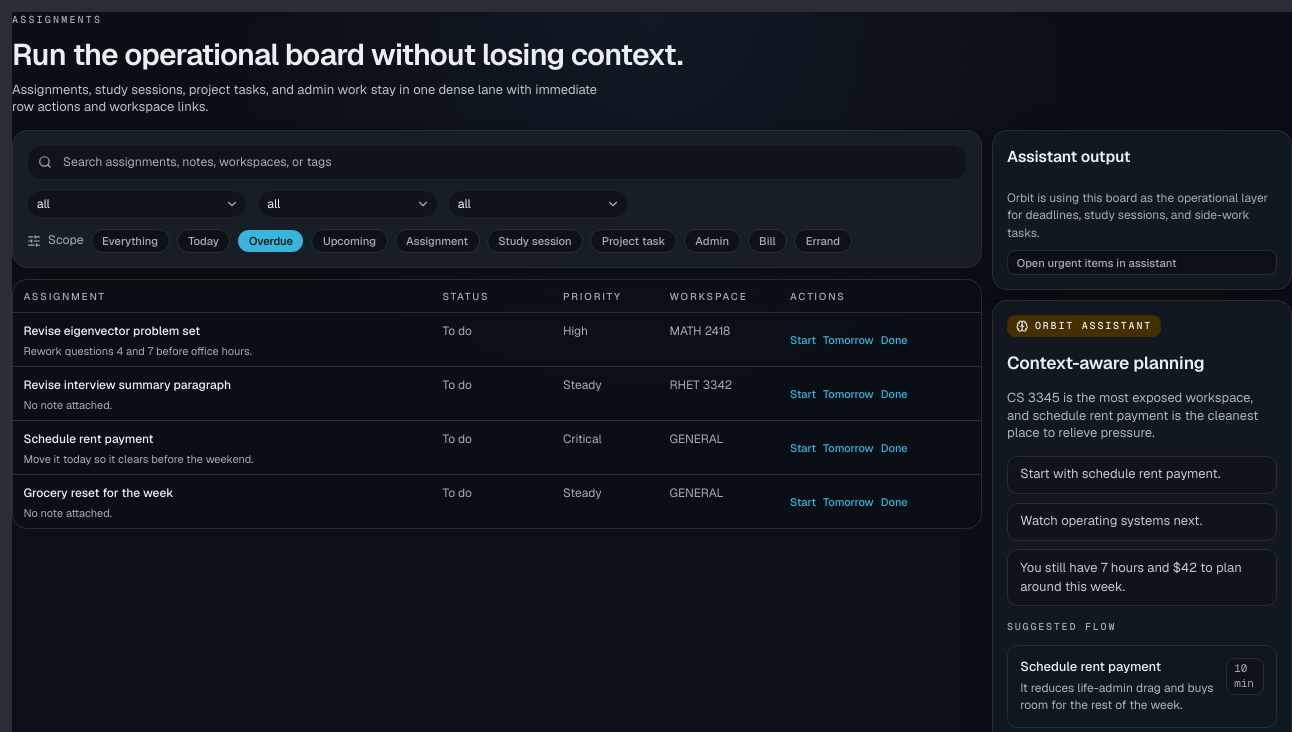
Scenario: TasksView › honors deep-linked filter combinations and local search
Check: the link "Schedule rent payment" is shown, box [24,431,154,447]
Step 1. Type "scheduler" into the field with placeholder "Search assignments, notes, workspaces, or tags" → (497, 162), box [27,145,966,180]
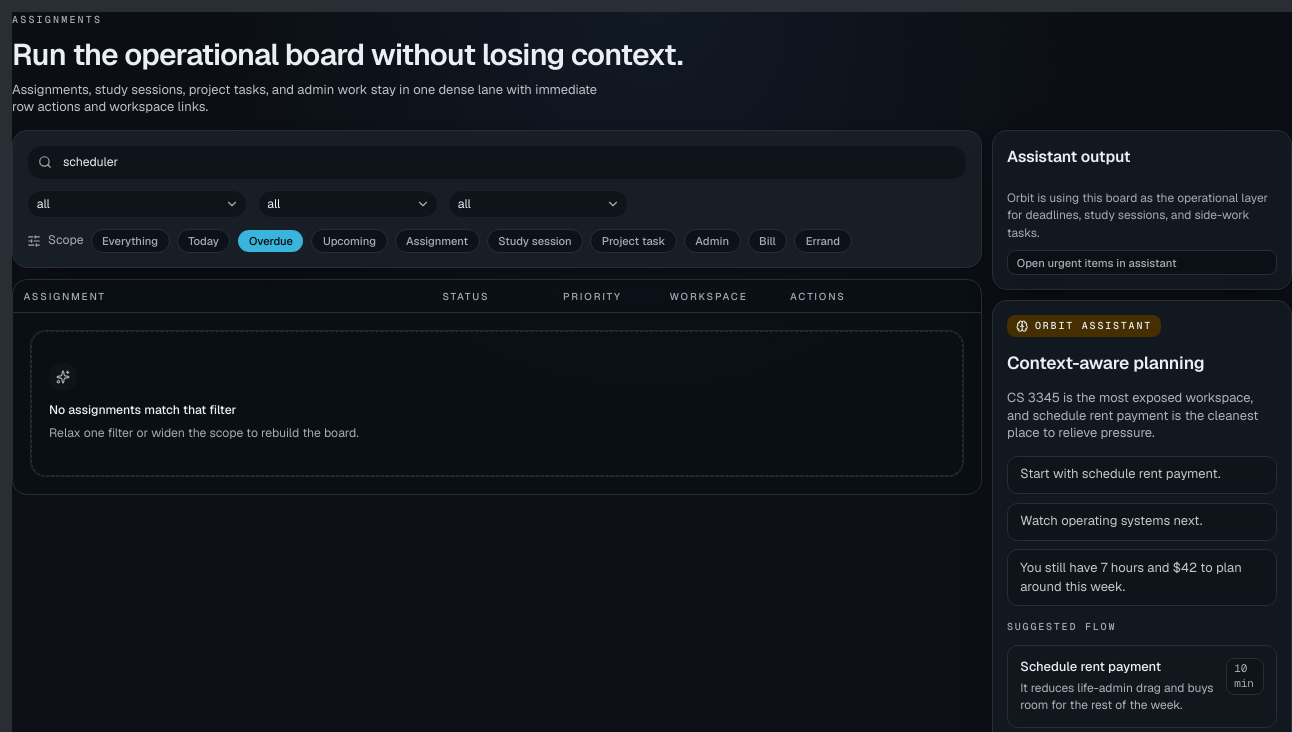
Check: the text "No assignments match that filter" is shown, box [49,402,236,418]
